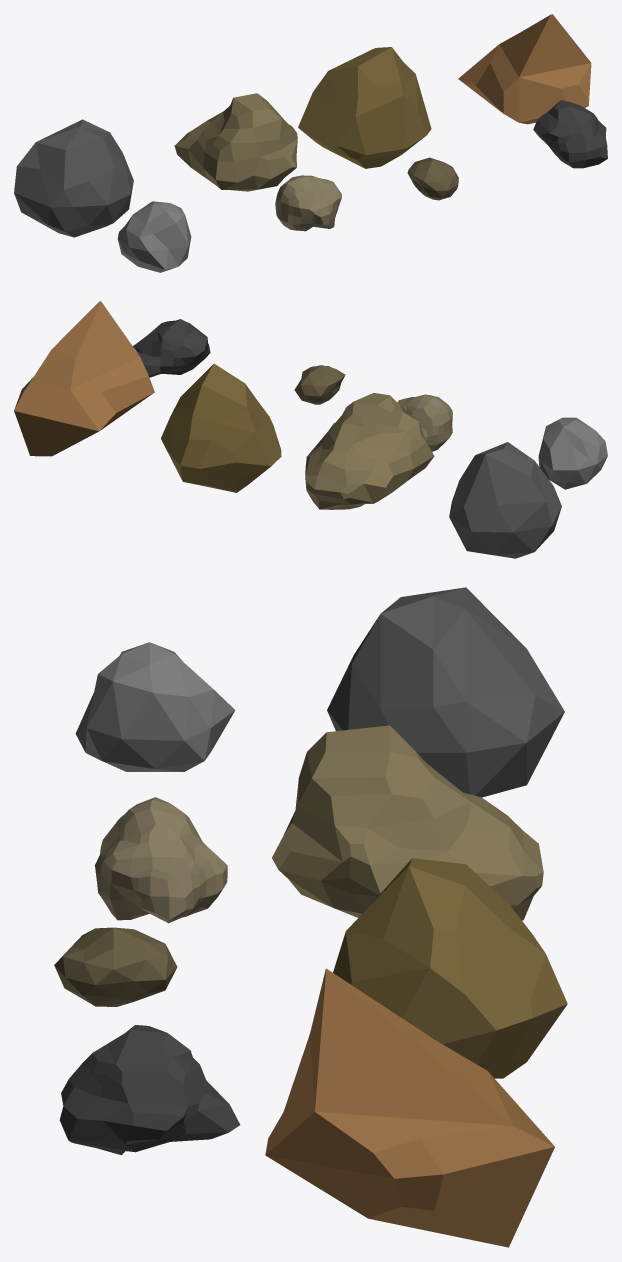
The model's file is Rocas.fbx.
The picture shows the model from 3 angles, top to bottom: view 1: azimuth 30°, elevation 25°; view 2: azimuth 150°, elevation 25°; view 3: azimuth 270°, elevation 25°; orthographic projection. The views are drawn at different scales.
Parts seen in each view (by area): view 1: Roca5, Roca3, Roca6, Roca4, Roca2, Roca7, Roca8, Roca1; view 2: Roca6, Roca5, Roca4, Roca3, Roca2, Roca7, Roca8, Roca1; view 3: Roca6, Roca5, Roca3, Roca4, Roca7, Roca2, Roca8, Roca1.
Part boxes in pixels (<box>): Roca5: <box>298,47,431,168</box>; Roca3: <box>14,119,133,237</box>; Roca6: <box>458,14,591,124</box>; Roca4: <box>174,93,297,191</box>; Roca2: <box>117,201,191,272</box>; Roca7: <box>533,100,607,168</box>; Roca8: <box>275,175,341,231</box>; Roca1: <box>407,157,458,200</box>; Roca6: <box>14,301,154,456</box>; Roca5: <box>161,363,281,492</box>; Roca4: <box>305,393,434,509</box>; Roca3: <box>449,442,561,558</box>; Roca2: <box>538,417,607,489</box>; Roca7: <box>133,319,210,377</box>; Roca8: <box>397,394,452,451</box>; Roca1: <box>294,365,345,404</box>; Roca6: <box>265,968,554,1247</box>; Roca5: <box>333,858,567,1078</box>; Roca3: <box>327,587,564,797</box>; Roca4: <box>272,725,543,920</box>; Roca7: <box>59,1025,240,1155</box>; Roca2: <box>75,642,235,771</box>; Roca8: <box>95,797,227,923</box>; Roca1: <box>54,927,177,1006</box>.
Bounding box in the file's own units: 3343 × 760 × 1388.
